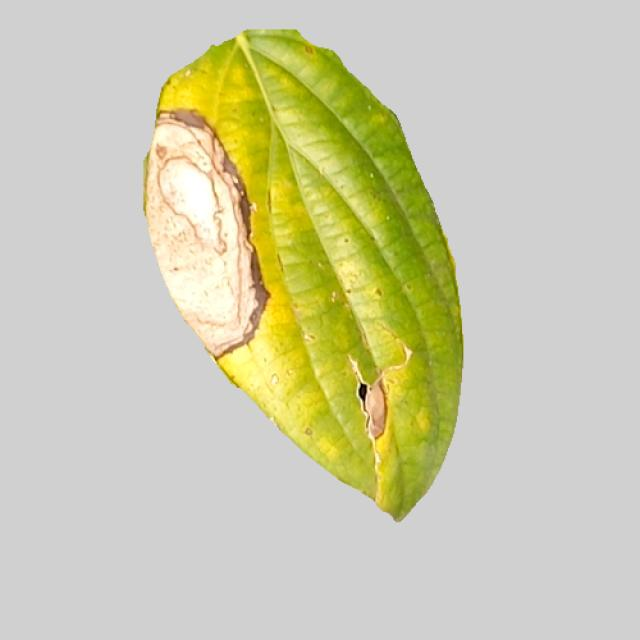leaf-blight: (118, 38, 474, 526)
